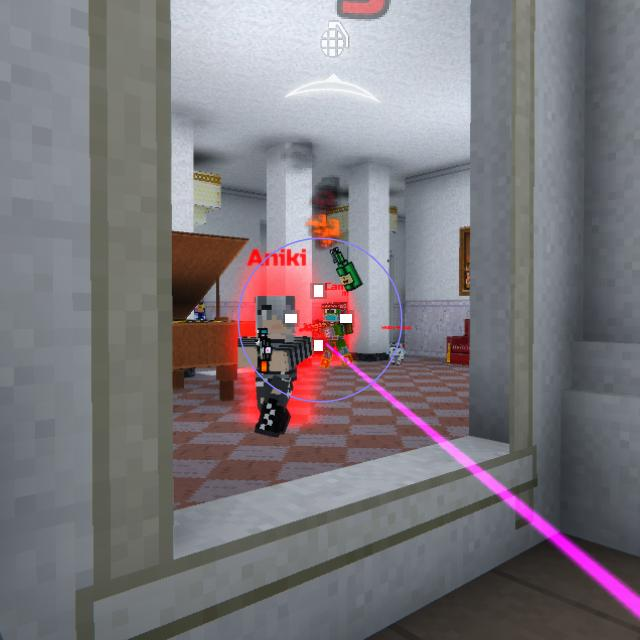Enemy: (240, 293, 318, 434), (319, 304, 356, 366)
